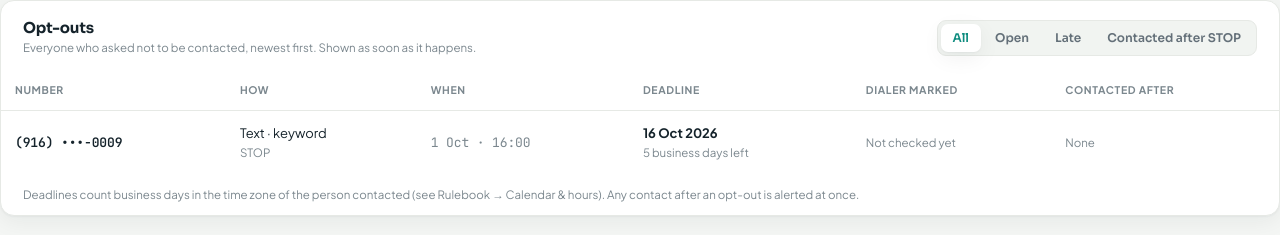
Test: opt-outs card with real data › says "Nothing here." when a filter has no rows
Step 1. Click the button "Late" → (1068, 38), box [1043, 24, 1093, 52]
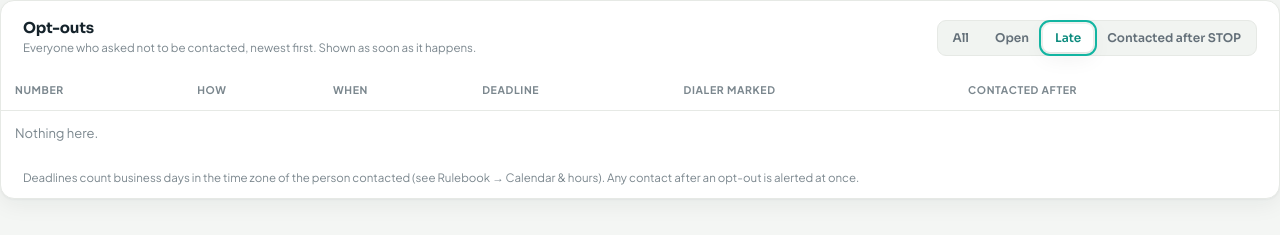
Now the text "Nothing here." is shown, box [1, 110, 1279, 156]
